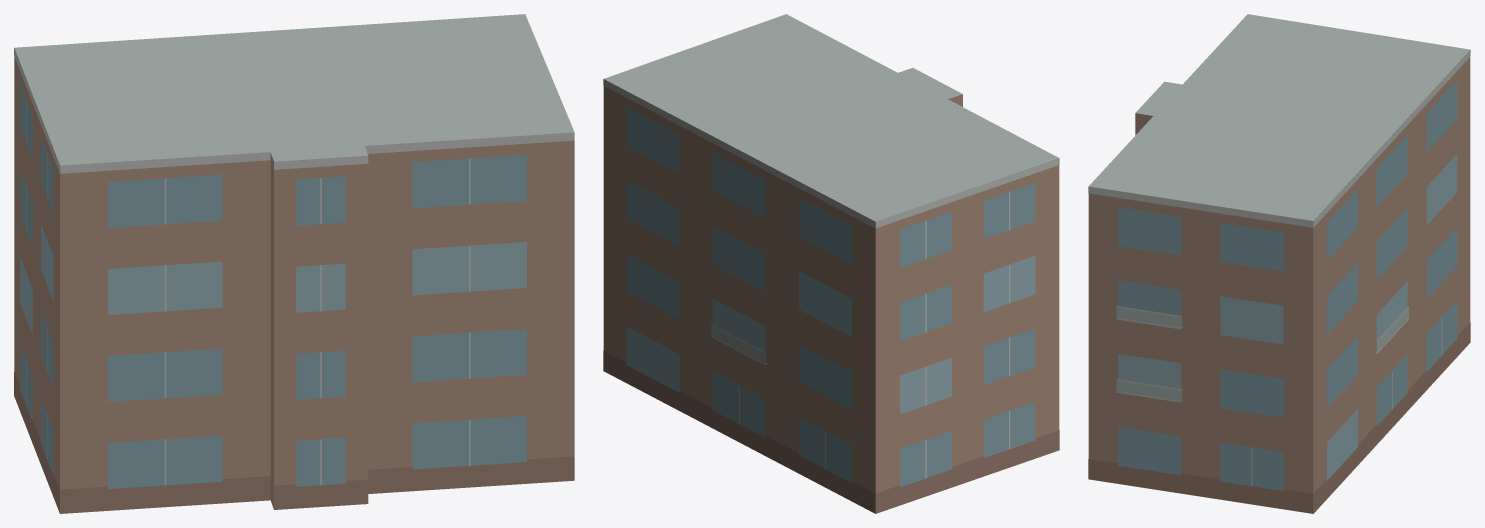
Rendered from survey-upis-32527639.glb.
3 views of the same model, side by side, from view 1: azimuth 30°, elevation 25°; view 2: azimuth 150°, elevation 25°; view 3: azimuth 270°, elevation 25° (orthographic). The views are drawn at different scales.
Parts seen in each view (by area): view 1: survey-upis-32527639.tmp; view 2: survey-upis-32527639.tmp; view 3: survey-upis-32527639.tmp.
Boxes of the visible parts, x1,y1,x2,y2 form: survey-upis-32527639.tmp: (14, 14, 574, 513); survey-upis-32527639.tmp: (603, 14, 1059, 513); survey-upis-32527639.tmp: (1088, 14, 1470, 513).
Size of the model in its own units: 15.93 by 10.5 by 12.42.
